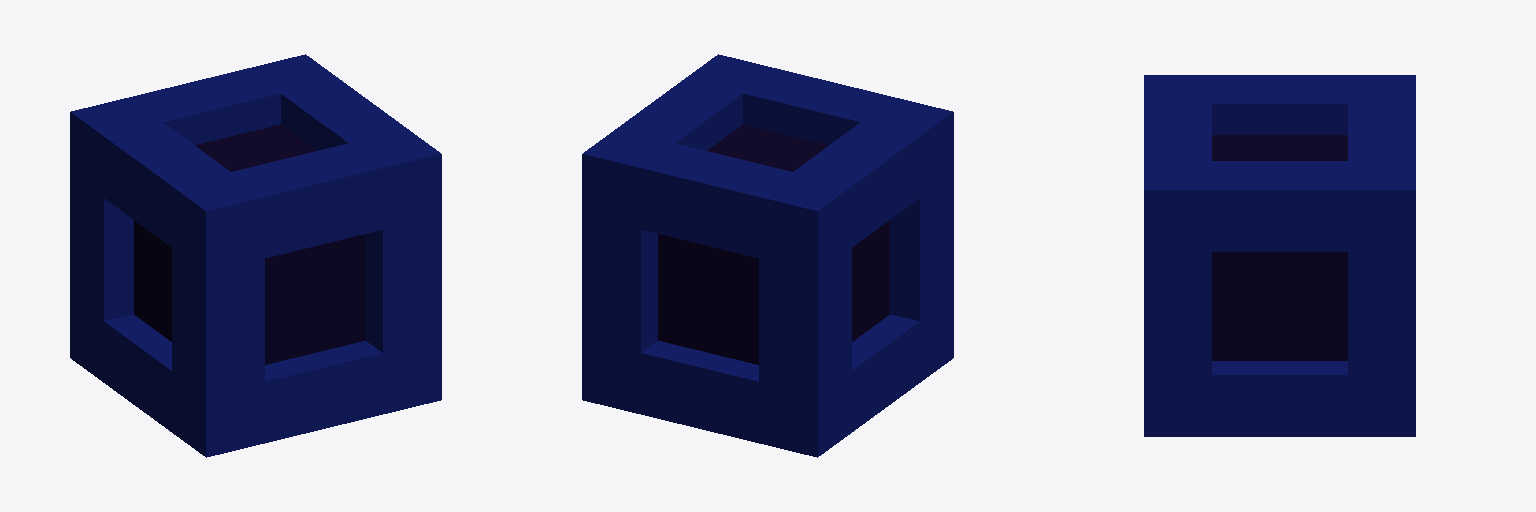
The model's file is machine-framework.obj.
3 views of the same model, side by side, from view 1: azimuth 30°, elevation 25°; view 2: azimuth 150°, elevation 25°; view 3: azimuth 270°, elevation 25° (orthographic).
Parts seen in each view (by area): view 1: 立方体, 平面.004, 平面.003, 平面; view 2: 立方体, 平面.005, 平面.003, 平面; view 3: 立方体, 平面.001, 平面.
Part boxes in pixels (bbox=[...]): 立方体: bbox=[70, 54, 441, 457]; 平面.004: bbox=[265, 234, 365, 364]; 平面.003: bbox=[134, 220, 171, 341]; 平面: bbox=[195, 124, 316, 171]; 立方体: bbox=[582, 54, 953, 457]; 平面.005: bbox=[658, 234, 758, 364]; 平面.003: bbox=[852, 220, 889, 341]; 平面: bbox=[707, 124, 828, 171]; 立方体: bbox=[1144, 75, 1415, 436]; 平面.001: bbox=[1212, 252, 1347, 360]; 平面: bbox=[1212, 135, 1347, 160].
Bounding box in the file's own units: 0.25 × 0.25 × 0.25.